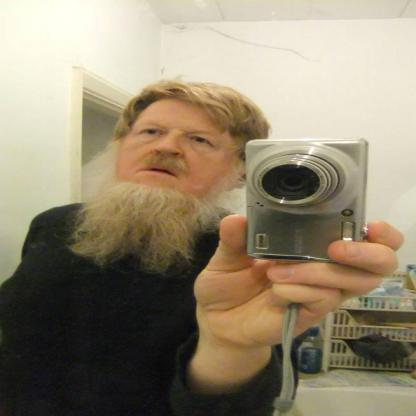Camera: (244, 140, 370, 262)
